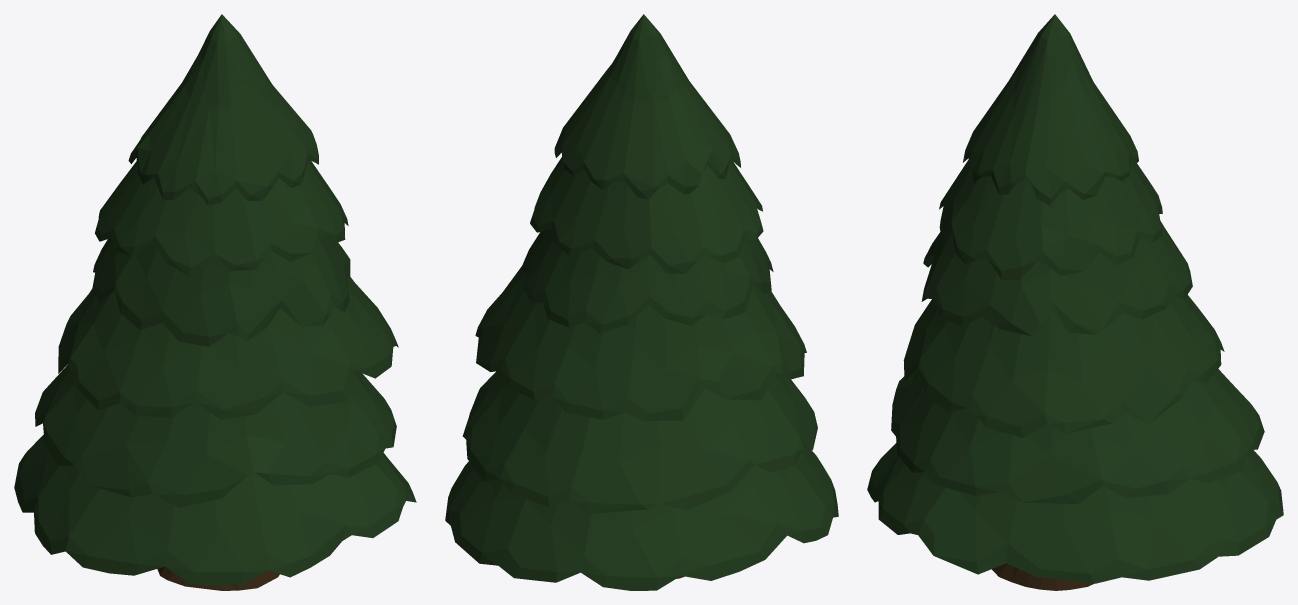
The model's file is folliage11.glb.
3 renders of one model, left to right at view 1: azimuth 30°, elevation 25°; view 2: azimuth 150°, elevation 25°; view 3: azimuth 270°, elevation 25°, orthographic.
Visible parts, largest first — view 1: LowPoly Tree 07.027; view 2: LowPoly Tree 07.027; view 3: LowPoly Tree 07.027.
Part boxes in pixels (x1,y1,x2,y2): LowPoly Tree 07.027: (14, 14, 416, 590); LowPoly Tree 07.027: (445, 14, 838, 590); LowPoly Tree 07.027: (867, 14, 1283, 590).
Bounding box in the file's own units: 1.28 × 1.97 × 1.35.
